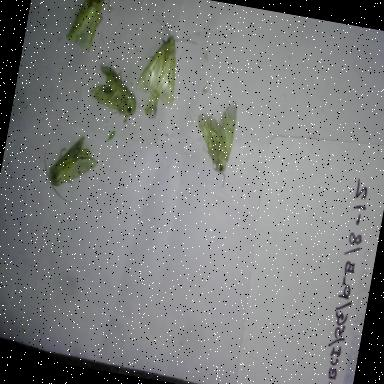abw: (127, 10, 206, 130), (32, 126, 106, 218), (183, 93, 249, 195), (79, 58, 146, 132), (58, 0, 133, 62)
